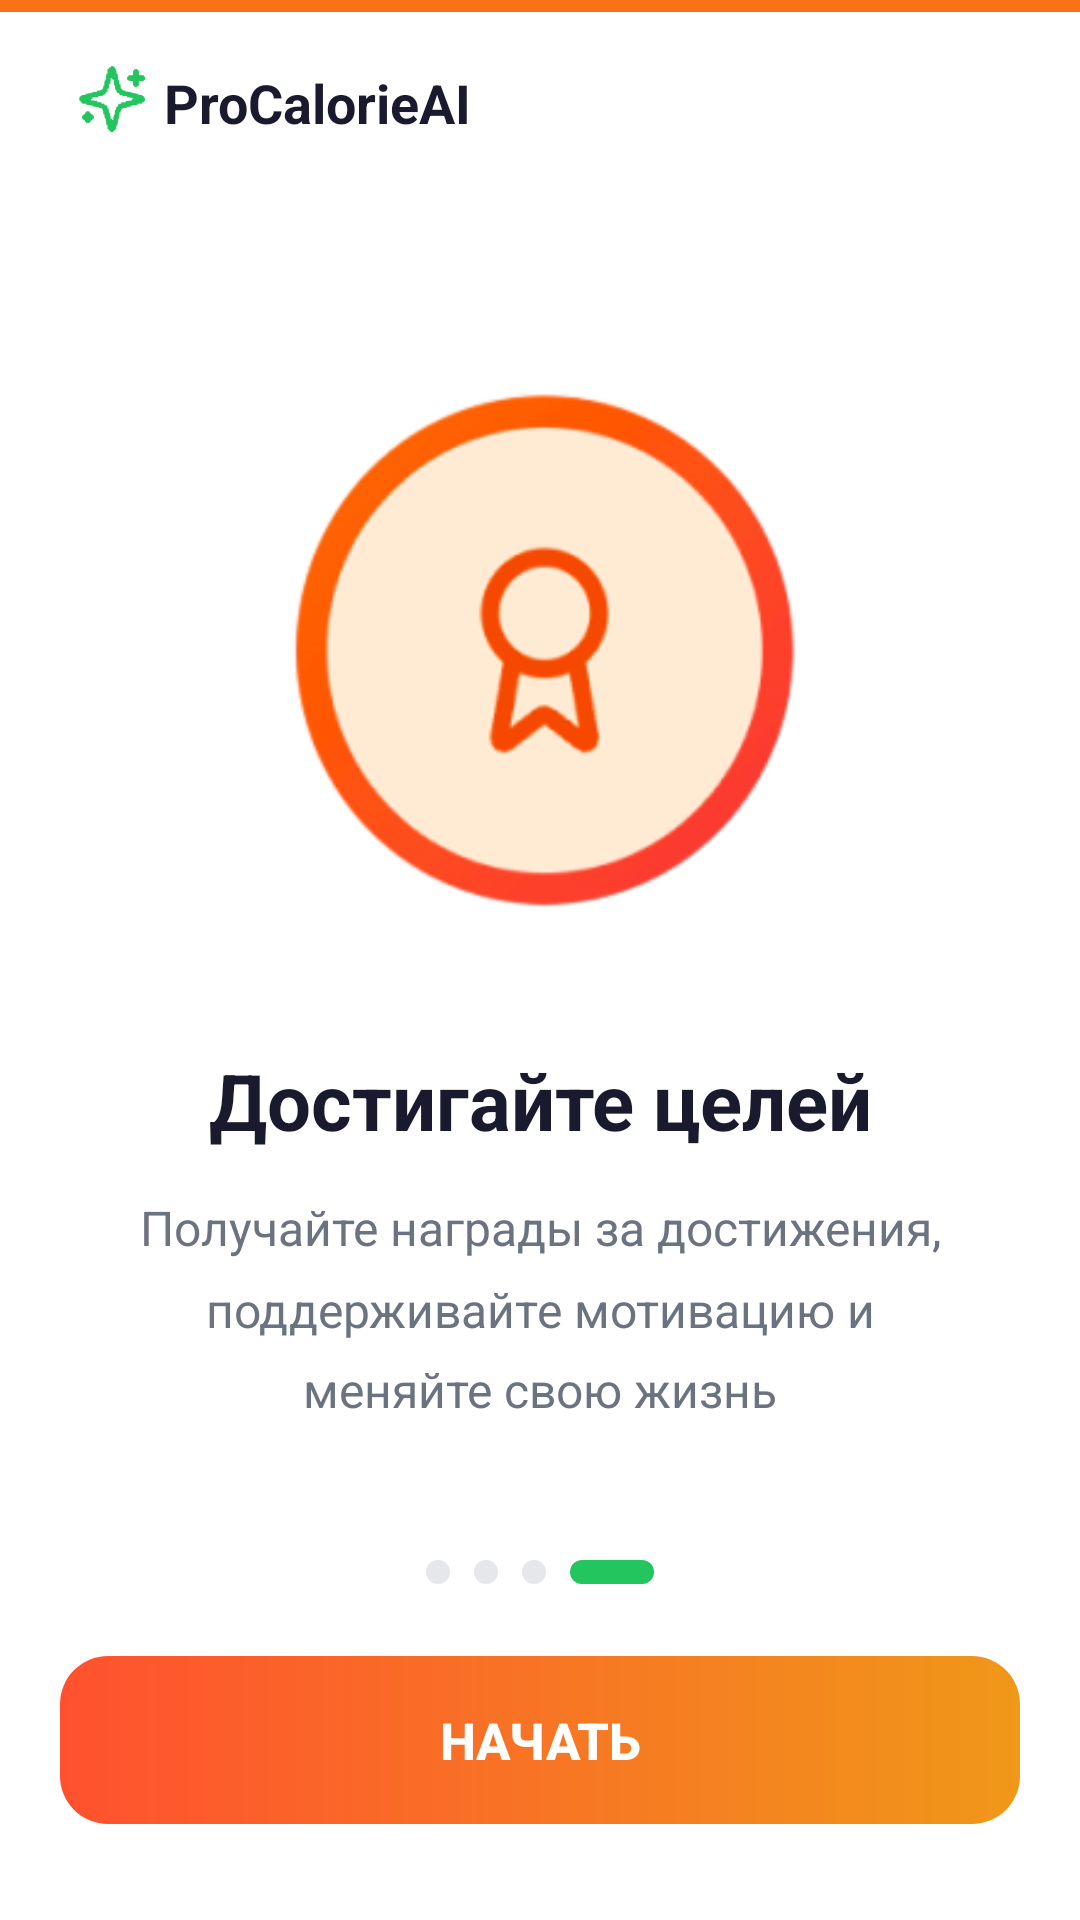

Where to tap for icons on this 1080*1920 app screen, as (x=x, y=y):
star: (x=112, y=99)
